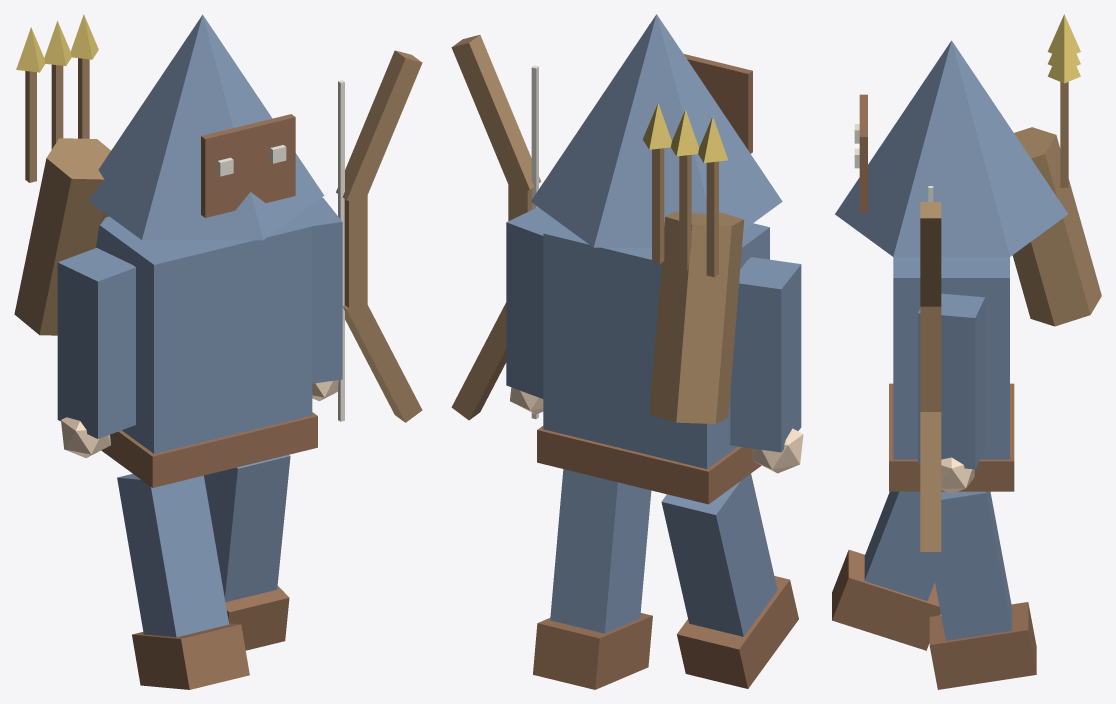
Rendered from npcpose_archer_walk_11.glb.
The picture shows the model from 3 angles, left to right: view 1: azimuth 30°, elevation 25°; view 2: azimuth 150°, elevation 25°; view 3: azimuth 270°, elevation 25°; orthographic projection. The views are drawn at different scales.
Visible parts, largest first — view 1: npcpose; view 2: npcpose; view 3: npcpose.
Part boxes in pixels (left/top/right/bottom): npcpose: left=14, top=14, right=422, bottom=689; npcpose: left=451, top=14, right=803, bottom=689; npcpose: left=832, top=14, right=1101, bottom=689.
Size of the model in its own units: 0.9089 by 1.63 by 0.6465.
